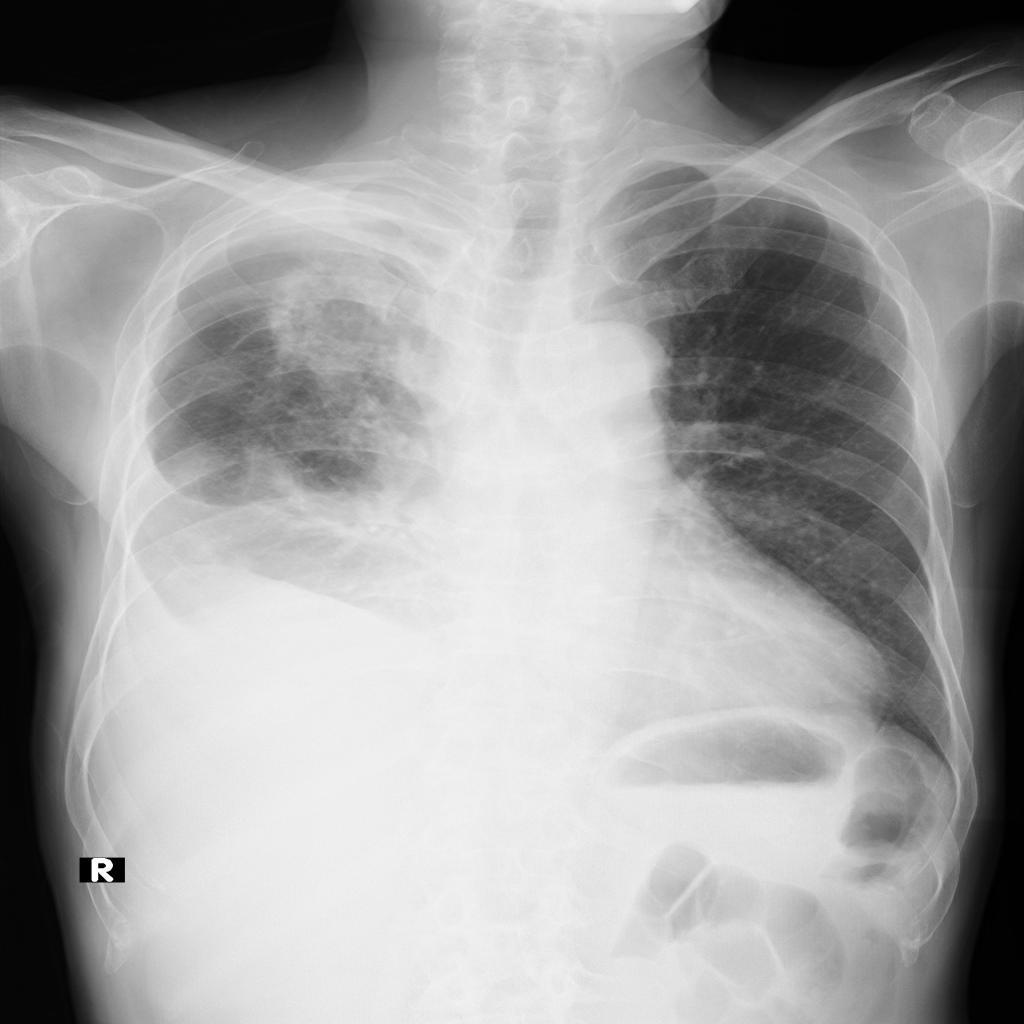Nodule: (152, 446, 374, 598)
